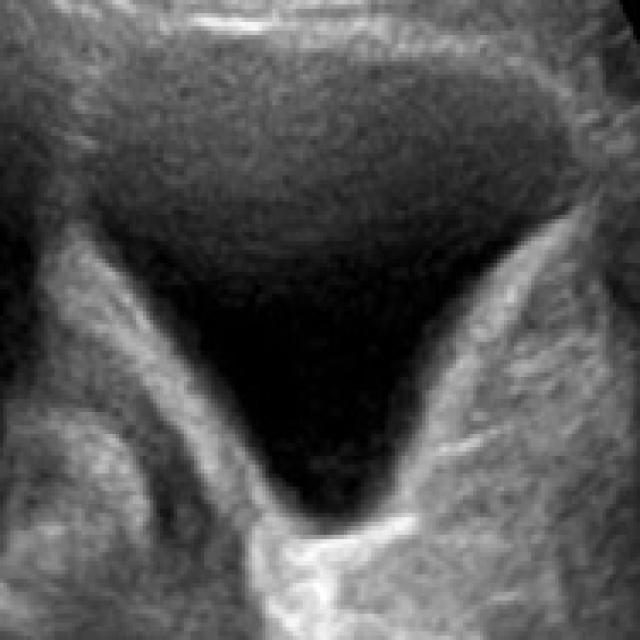bladder: (52, 6, 613, 595)
